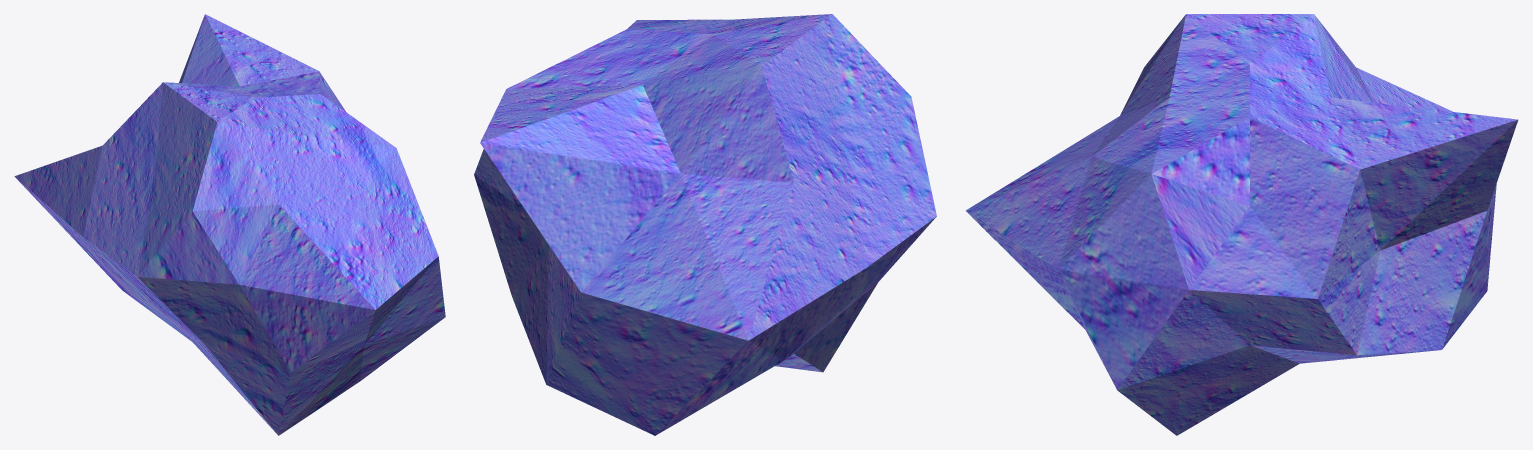
File: smallasteroid9_LOD4.fbx
3 views of the same model, side by side, from view 1: azimuth 30°, elevation 25°; view 2: azimuth 150°, elevation 25°; view 3: azimuth 270°, elevation 25° (orthographic). The views are drawn at different scales.
Visible parts, largest first — view 1: Icosphere; view 2: Icosphere; view 3: Icosphere.
Part boxes in pixels (x1,y1,x2,y2): Icosphere: (14,14,445,435); Icosphere: (474,14,936,435); Icosphere: (965,14,1518,435).
Size of the model in its own units: 252 by 244 by 343.
